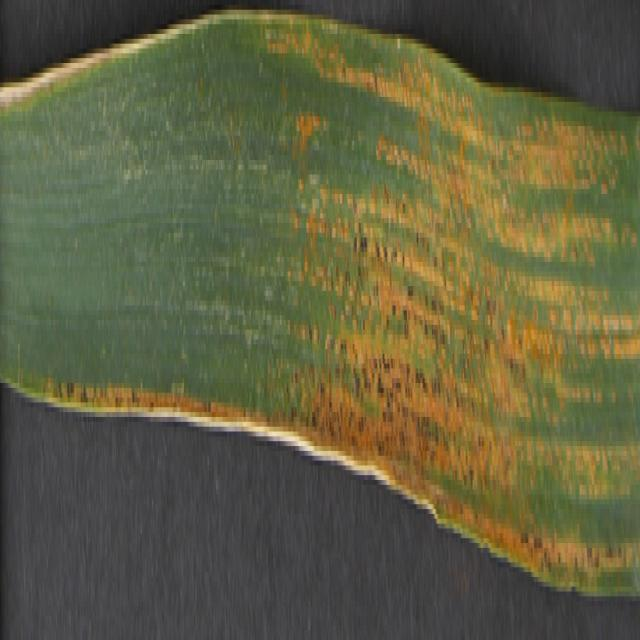leaf rust: (253, 5, 638, 577)
